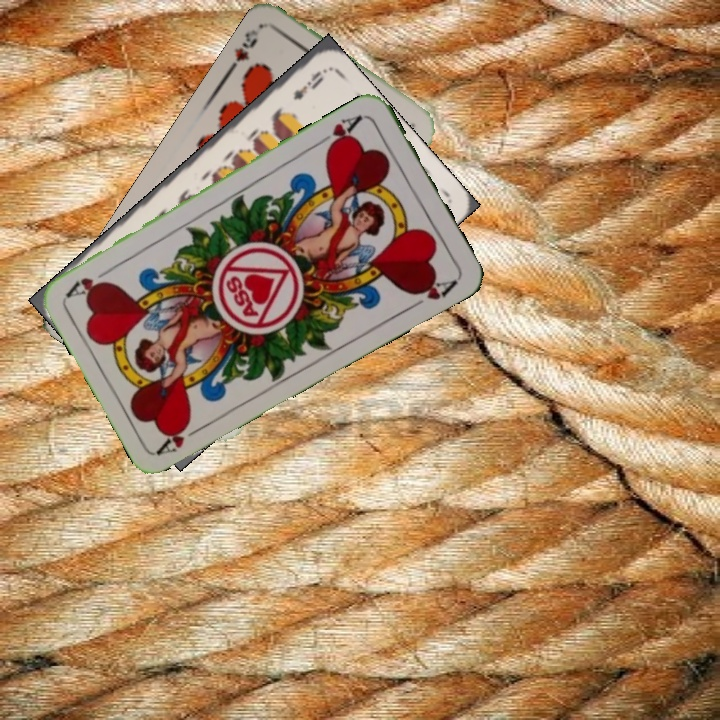E9: (289, 66, 326, 103)
H9: (224, 25, 261, 76)
HA: (313, 110, 366, 153), (154, 416, 209, 457)
